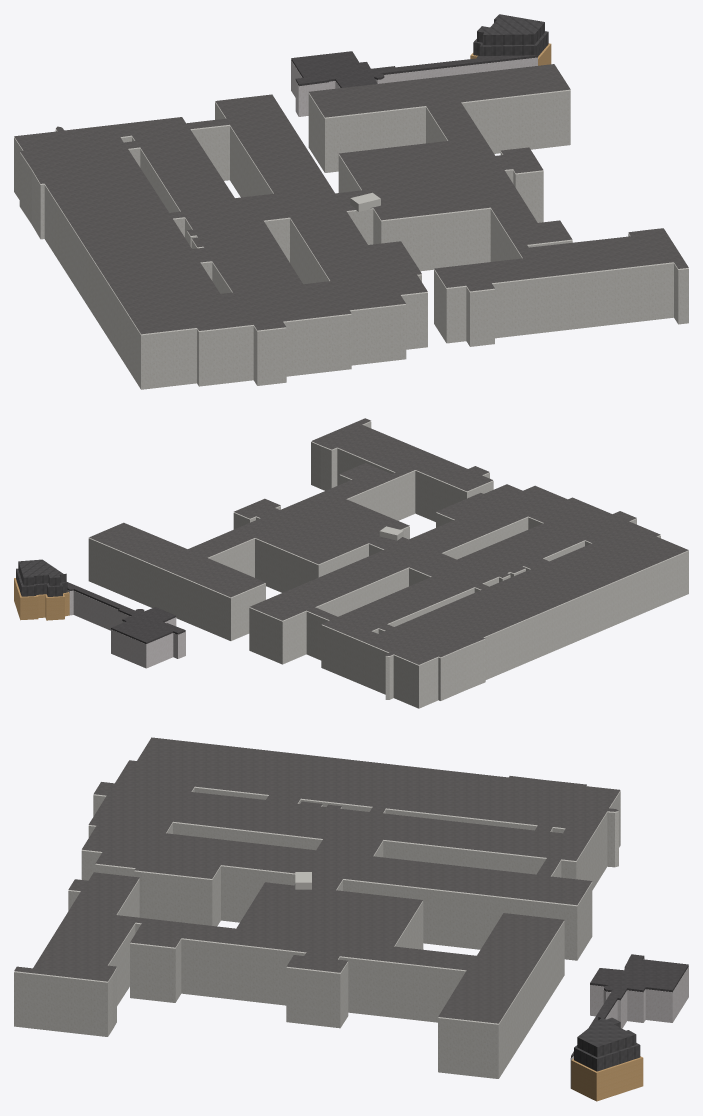
3 views of the same model, one above another, from view 1: azimuth 30°, elevation 25°; view 2: azimuth 150°, elevation 25°; view 3: azimuth 270°, elevation 25° (orthographic). The views are drawn at different scales.
Parts seen in each view (by area): view 1: lmbase_7345816_roof, lmbase_7345816, lmbase_232921425_roof, lmbase_232921425, lmbase_503176291_roof_b, lmbase_503176291_roof_a; view 2: lmbase_7345816_roof, lmbase_7345816, lmbase_232921425, lmbase_232921425_roof, lmbase_503176291, lmbase_503176291_roof_b, lmbase_503176291_roof_a; view 3: lmbase_7345816_roof, lmbase_7345816, lmbase_232921425_roof, lmbase_232921425, lmbase_503176291, lmbase_503176291_roof_b, lmbase_503176291_roof_a.
Part boxes in pixels (x1,y1,x2,y2): lmbase_7345816_roof: (14, 64, 688, 334); lmbase_7345816: (14, 89, 688, 389); lmbase_232921425_roof: (291, 51, 537, 87); lmbase_232921425: (291, 57, 537, 116); lmbase_503176291_roof_b: (477, 14, 544, 45); lmbase_503176291_roof_a: (473, 31, 548, 56); lmbase_7345816_roof: (89, 418, 688, 664); lmbase_7345816: (88, 421, 688, 708); lmbase_232921425: (67, 590, 185, 668); lmbase_232921425_roof: (66, 581, 185, 643); lmbase_503176291: (14, 578, 69, 620); lmbase_503176291_roof_b: (18, 559, 66, 585); lmbase_503176291_roof_a: (16, 568, 67, 596); lmbase_7345816_roof: (14, 737, 620, 1023); lmbase_7345816: (14, 786, 620, 1078); lmbase_232921425_roof: (571, 954, 688, 1057); lmbase_232921425: (570, 958, 688, 1088); lmbase_503176291: (571, 1056, 643, 1101); lmbase_503176291_roof_b: (577, 1017, 636, 1057); lmbase_503176291_roof_a: (574, 1043, 640, 1071).
Bounding box in the file's own units: 185 × 17.4 × 171.
6 materials, 6 textured.
